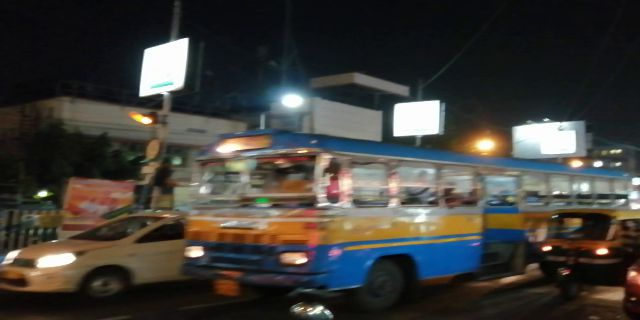Autorickshaw: (543, 210, 639, 298)
Bus: (184, 132, 630, 304)
Car: (6, 199, 183, 301)
